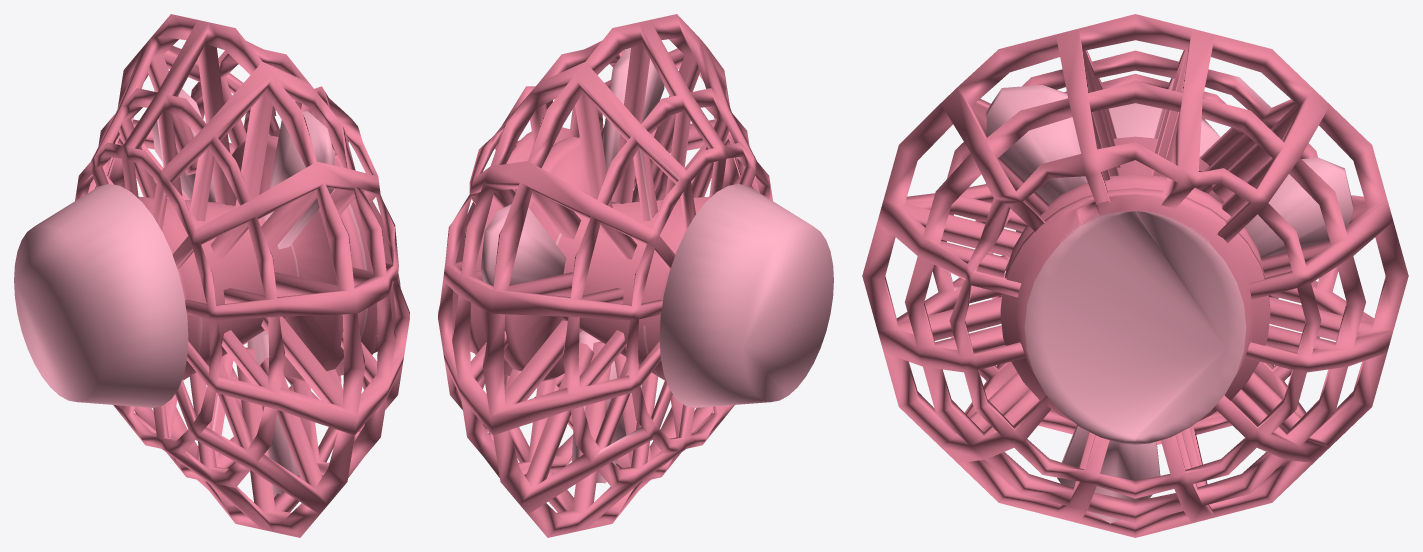
The model's file is brokenFan.fbx.
3 views of the same model, side by side, from view 1: azimuth 30°, elevation 25°; view 2: azimuth 150°, elevation 25°; view 3: azimuth 270°, elevation 25° (orthographic). The views are drawn at different scales.
Visible parts, largest first — view 1: Cylinder.001; view 2: Cylinder.001; view 3: Cylinder.001.
Boxes of the visible parts, x1=… form: Cylinder.001: x1=14, y1=14, x2=409, y2=537; Cylinder.001: x1=438, y1=14, x2=833, y2=537; Cylinder.001: x1=862, y1=14, x2=1408, y2=537.
Bounding box in the file's own units: 32.15 × 50.37 × 47.61.
1 material, 1 textured.
